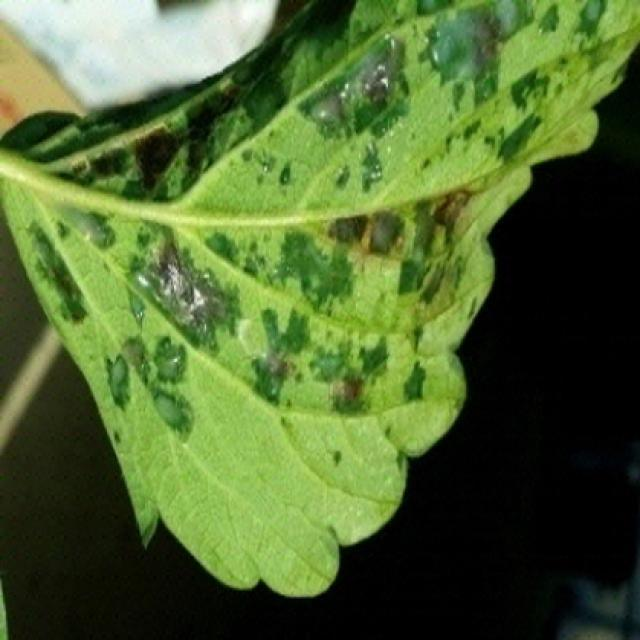Angular Leafspot: (0, 0, 638, 595)
